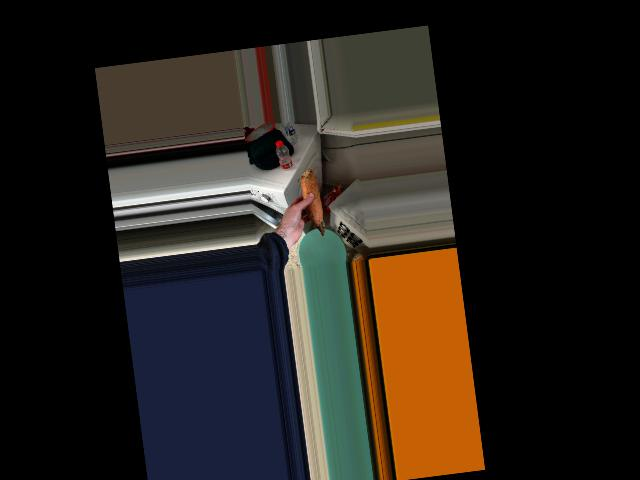sweet_potato: (295, 165, 330, 237)
